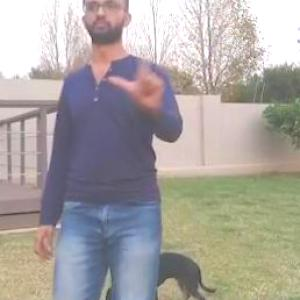land_hand: (106, 36, 170, 114)
